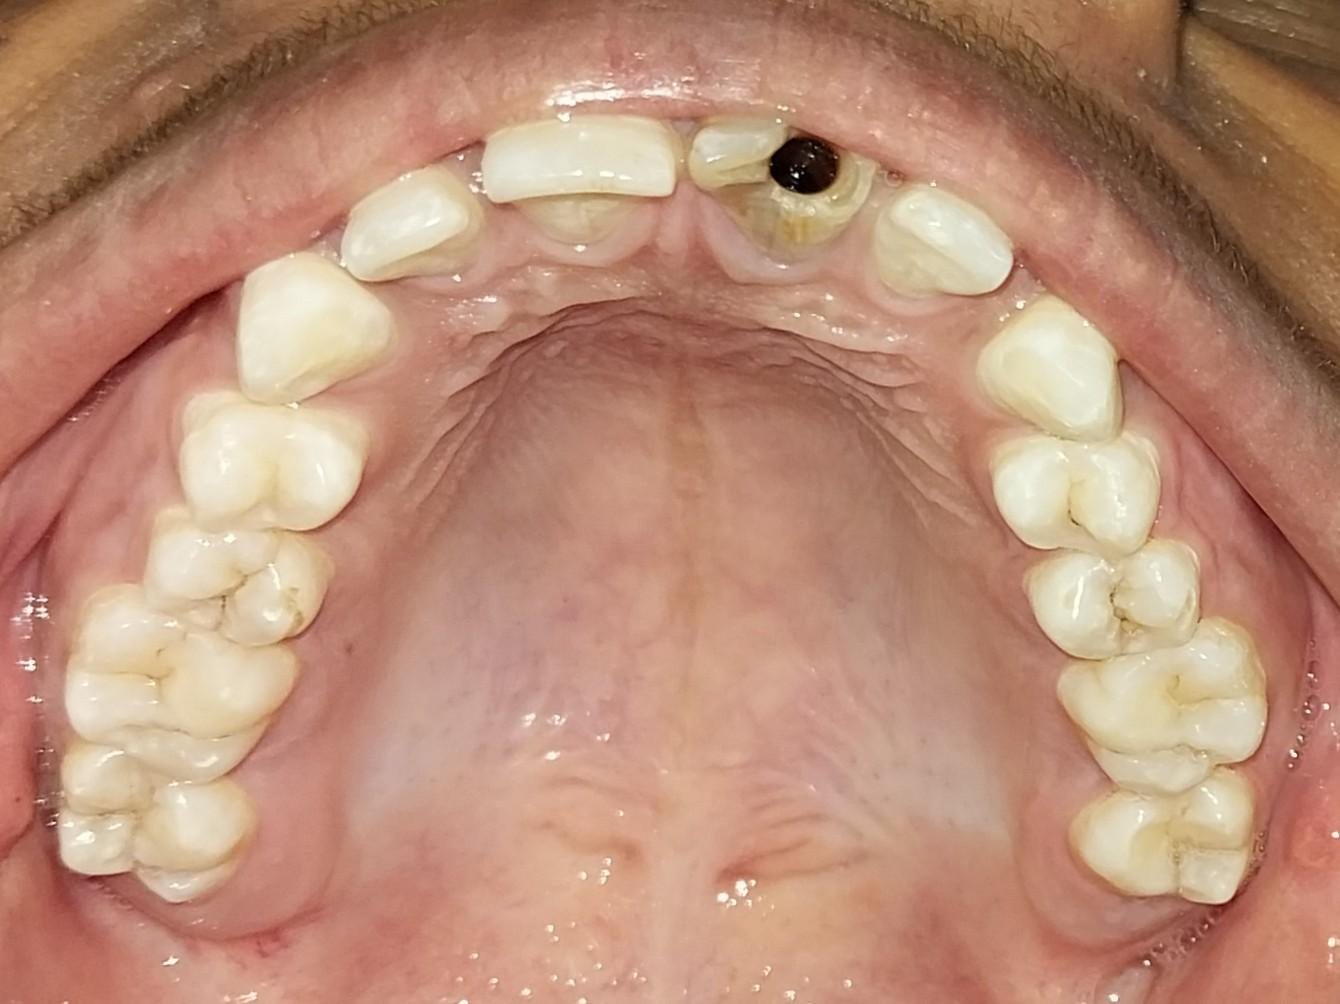D: (678, 100, 885, 266)
